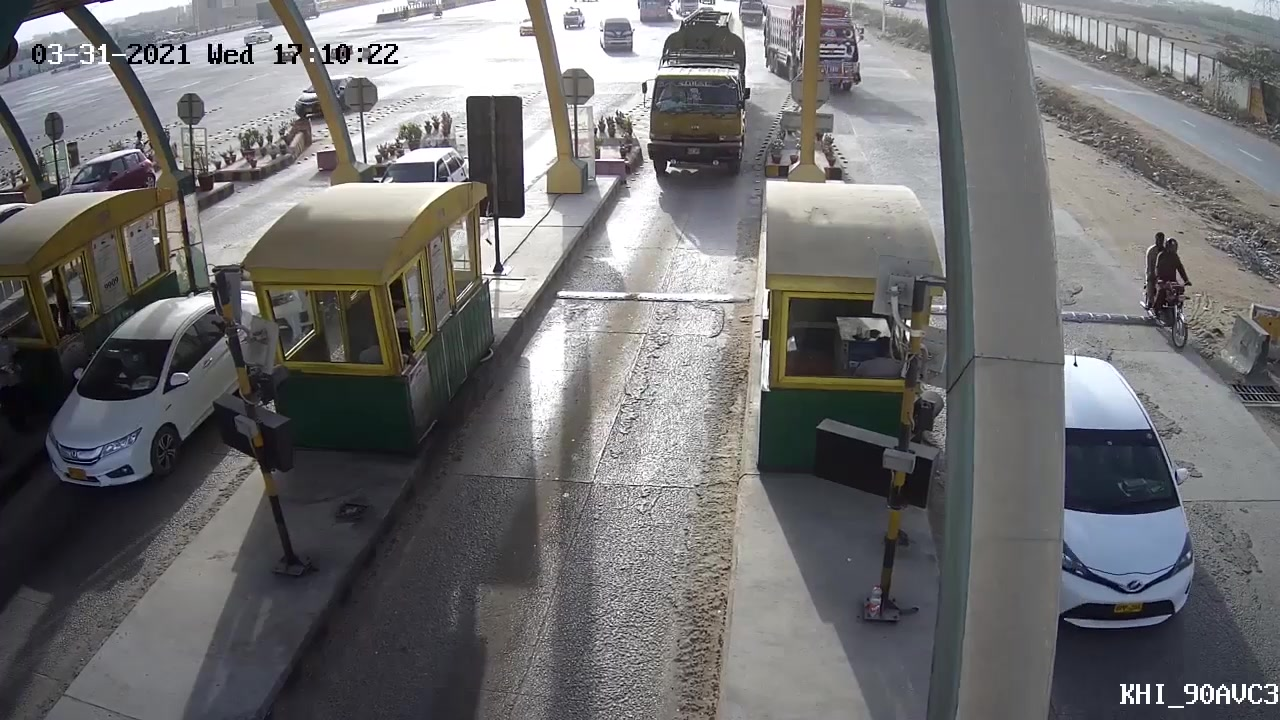F6: (640, 9, 761, 194)
